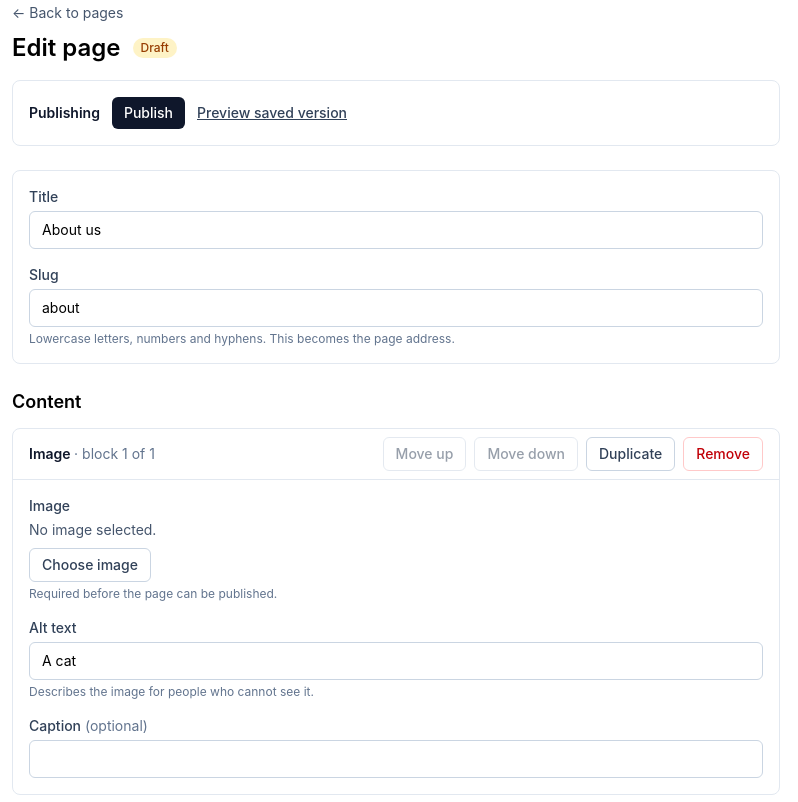
Test case: PageFormView publishing › shows publishing problems beside the blocks they belong to
Click the button with test id "publish": [148, 113] box [112,97,185,129]
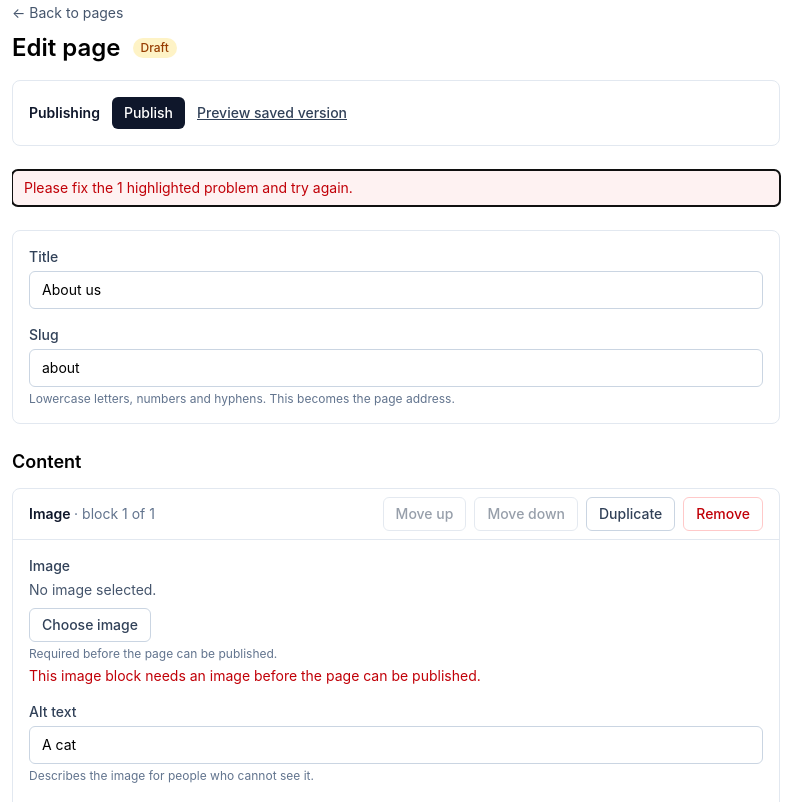
Check: the text "This image block needs an image" is shown, box [29,667,481,684]
Check: the text "Please fix the 1 highlighted problem" is shown, box [24,179,353,196]
